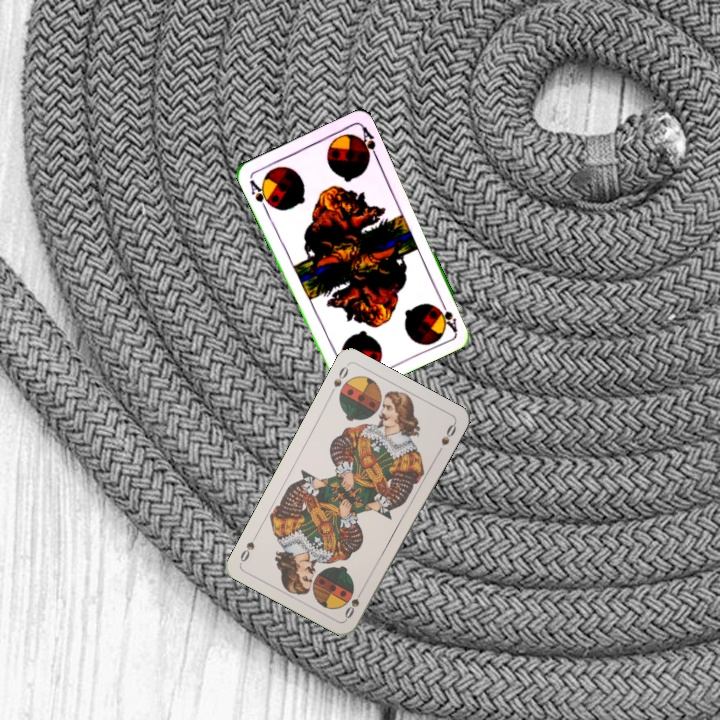SA: (245, 175, 275, 213), (433, 295, 459, 334)
SO: (340, 584, 366, 622), (325, 362, 351, 399)
